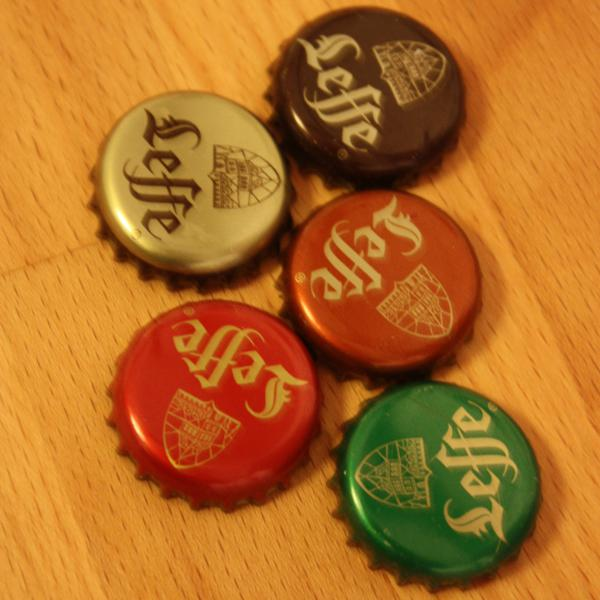leffe: (86, 87, 297, 292)
